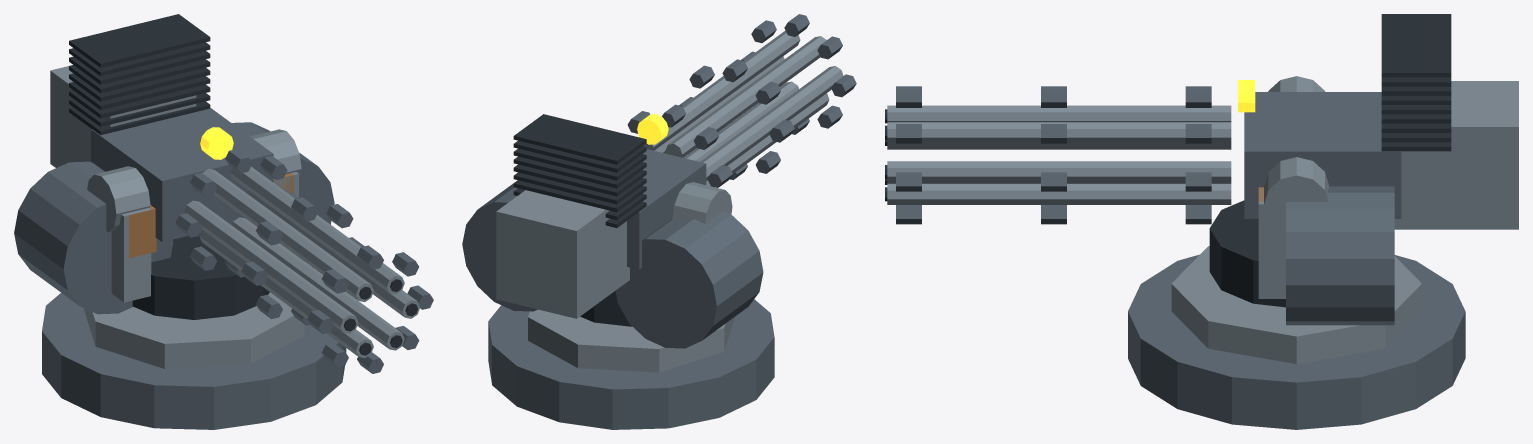
The model's file is rotor_t3_d0.meshopt.glb.
3 views of the same model, side by side, from view 1: azimuth 30°, elevation 25°; view 2: azimuth 150°, elevation 25°; view 3: azimuth 270°, elevation 25° (orthographic). The views are drawn at different scales.
Visible parts, largest first — view 1: RECOIL_ARMOR_GEOMETRY, BASE_ARMOR_GEOMETRY, ROTOR_ARMOR_GEOMETRY, YAW_ARMOR_GEOMETRY, RECOIL_SIGNAL_GEOMETRY; view 2: RECOIL_ARMOR_GEOMETRY, BASE_ARMOR_GEOMETRY, ROTOR_ARMOR_GEOMETRY, YAW_ARMOR_GEOMETRY, RECOIL_SIGNAL_GEOMETRY; view 3: RECOIL_ARMOR_GEOMETRY, BASE_ARMOR_GEOMETRY, ROTOR_ARMOR_GEOMETRY, YAW_ARMOR_GEOMETRY, RECOIL_SIGNAL_GEOMETRY.
Part boxes in pixels (x1=…): RECOIL_ARMOR_GEOMETRY: x1=14, y1=14, x2=334, y2=314; BASE_ARMOR_GEOMETRY: x1=42, y1=292, x2=346, y2=429; ROTOR_ARMOR_GEOMETRY: x1=175, y1=149, x2=433, y2=373; YAW_ARMOR_GEOMETRY: x1=111, y1=172, x2=298, y2=319; RECOIL_SIGNAL_GEOMETRY: x1=200, y1=127, x2=233, y2=159; RECOIL_ARMOR_GEOMETRY: x1=462, y1=114, x2=763, y2=348; BASE_ARMOR_GEOMETRY: x1=488, y1=299, x2=774, y2=429; ROTOR_ARMOR_GEOMETRY: x1=627, y1=14, x2=856, y2=187; YAW_ARMOR_GEOMETRY: x1=580, y1=291, x2=631, y2=326; RECOIL_SIGNAL_GEOMETRY: x1=637, y1=114, x2=668, y2=144; RECOIL_ARMOR_GEOMETRY: x1=1244, y1=14, x2=1518, y2=325; BASE_ARMOR_GEOMETRY: x1=1128, y1=246, x2=1465, y2=429; ROTOR_ARMOR_GEOMETRY: x1=885, y1=86, x2=1231, y2=224; YAW_ARMOR_GEOMETRY: x1=1209, y1=190, x2=1285, y2=307; RECOIL_SIGNAL_GEOMETRY: x1=1238, y1=80, x2=1255, y2=112.
Bounding box in the file's own units: 1.58 × 1.6 × 2.91.
